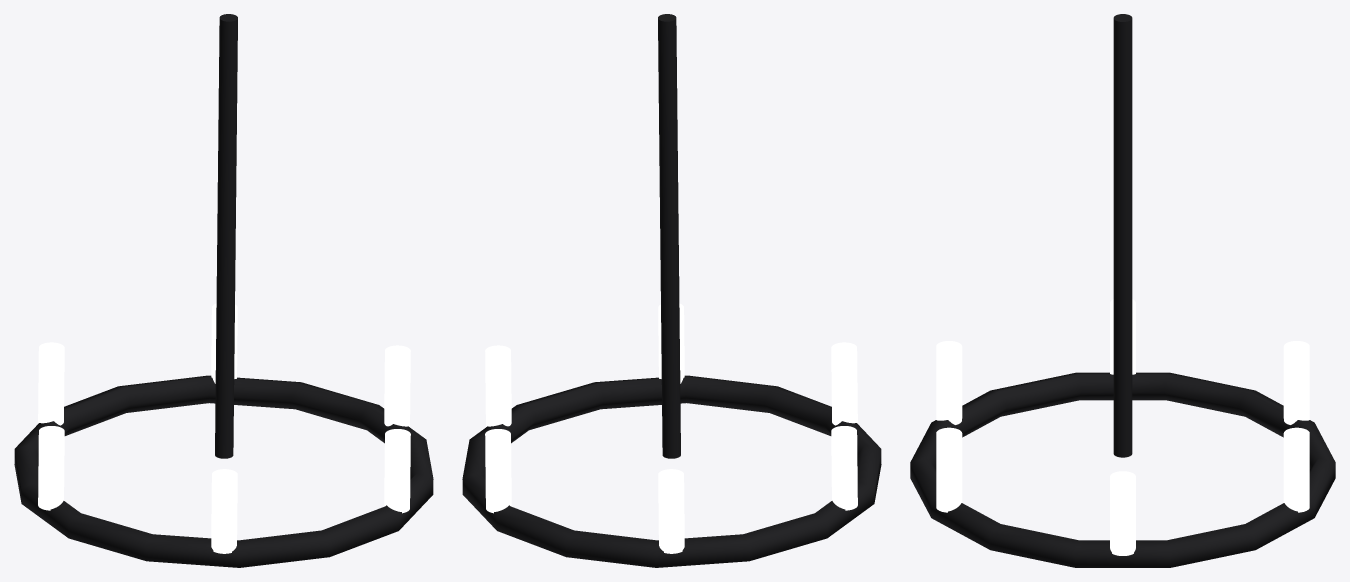
The model's file is ato2_lustre_hall.glb.
The picture shows the model from 3 angles, left to right: view 1: azimuth 30°, elevation 25°; view 2: azimuth 150°, elevation 25°; view 3: azimuth 270°, elevation 25°; orthographic projection.
Parts seen in each view (by area): view 1: _MeshInstance3D_5394_6, _MeshInstance3D_5393_7, _MeshInstance3D_5397_3, _MeshInstance3D_5398_2, _MeshInstance3D_5396_4, _MeshInstance3D_5399_1, _MeshInstance3D_5395_5, _MeshInstance3D_5400_0; view 2: _MeshInstance3D_5394_6, _MeshInstance3D_5393_7, _MeshInstance3D_5399_1, _MeshInstance3D_5398_2, _MeshInstance3D_5400_0, _MeshInstance3D_5397_3, _MeshInstance3D_5395_5, _MeshInstance3D_5396_4; view 3: _MeshInstance3D_5394_6, _MeshInstance3D_5393_7, _MeshInstance3D_5400_0, _MeshInstance3D_5396_4, _MeshInstance3D_5399_1, _MeshInstance3D_5397_3, _MeshInstance3D_5395_5, _MeshInstance3D_5398_2.
Boxes of the visible parts, x1,y1,x2,y2 form: _MeshInstance3D_5394_6: (14,375,433,567); _MeshInstance3D_5393_7: (215,14,237,458); _MeshInstance3D_5397_3: (211,469,237,553); _MeshInstance3D_5398_2: (38,426,64,510); _MeshInstance3D_5396_4: (384,429,410,513); _MeshInstance3D_5399_1: (38,342,64,425); _MeshInstance3D_5395_5: (384,345,410,426); _MeshInstance3D_5400_0: (211,303,237,383); _MeshInstance3D_5394_6: (462,375,881,567); _MeshInstance3D_5393_7: (658,14,680,458); _MeshInstance3D_5399_1: (658,469,684,553); _MeshInstance3D_5398_2: (831,426,857,510); _MeshInstance3D_5400_0: (485,429,511,513); _MeshInstance3D_5397_3: (831,342,857,425); _MeshInstance3D_5395_5: (485,345,511,426); _MeshInstance3D_5396_4: (658,303,684,383); _MeshInstance3D_5394_6: (910,372,1335,567); _MeshInstance3D_5393_7: (1113,14,1132,457); _MeshInstance3D_5400_0: (1283,427,1309,512); _MeshInstance3D_5396_4: (936,427,962,512); _MeshInstance3D_5399_1: (1283,341,1309,424); _MeshInstance3D_5397_3: (936,341,962,424); _MeshInstance3D_5395_5: (1110,471,1135,555); _MeshInstance3D_5398_2: (1110,299,1135,374).
Bounding box in the file's own units: 1.15 × 1.39 × 1.14.
